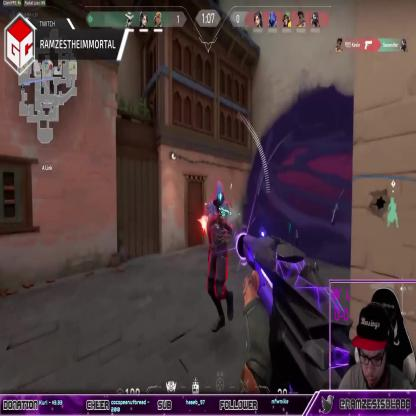enemy: (202, 175, 236, 332)
enemy_head: (212, 181, 224, 206)
